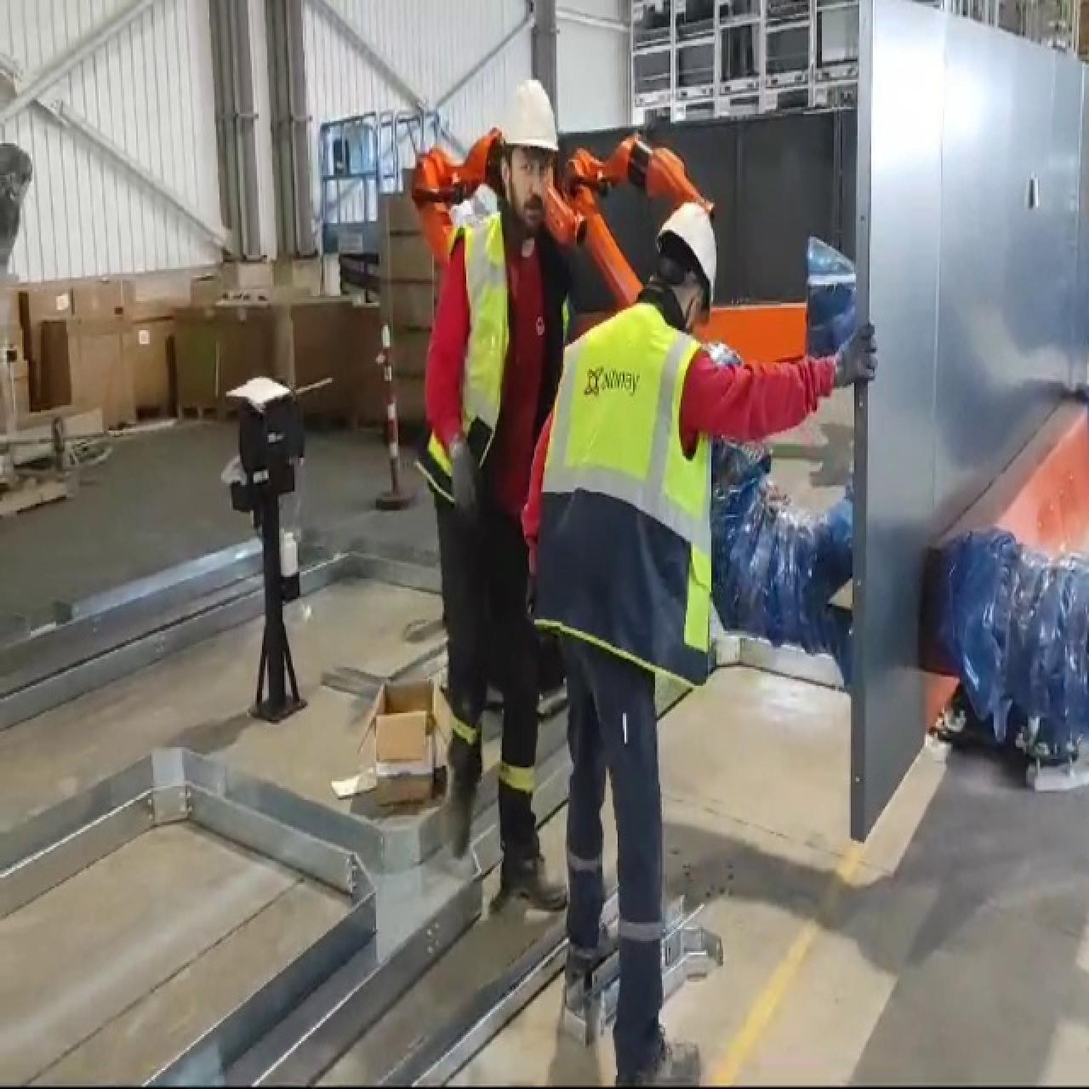Person: (537, 180, 822, 1083), (409, 67, 586, 866)
Safety_Vest: (540, 304, 748, 702), (425, 204, 579, 503)
